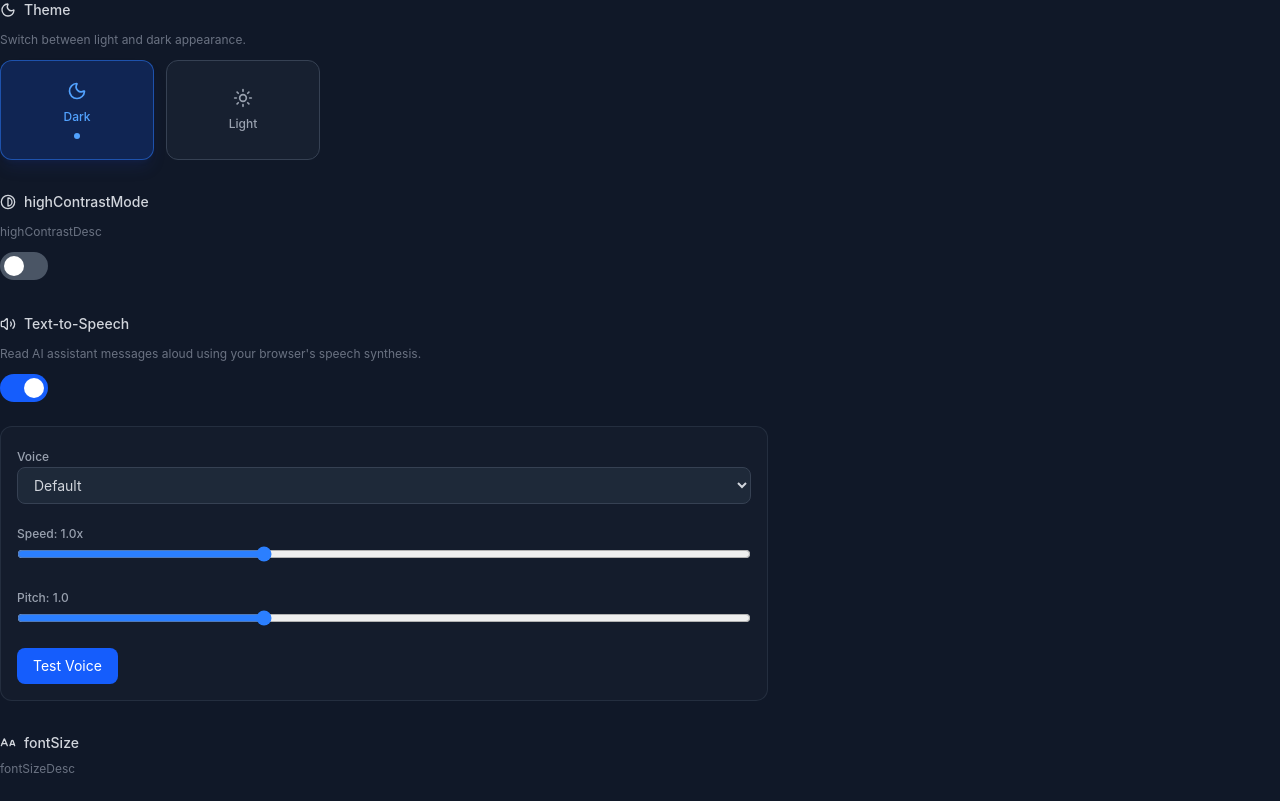
AccessibilitySettings › high-contrast toggle adds high-contrast class and persists
The image size is (1280, 801).
Expected: the text "highContrastMode" is shown, [0, 193, 149, 210]
The toggle is the high contrast button — find by parent label
Click the button without text below "highContrastDesc" at (24, 266), box [0, 252, 48, 280]
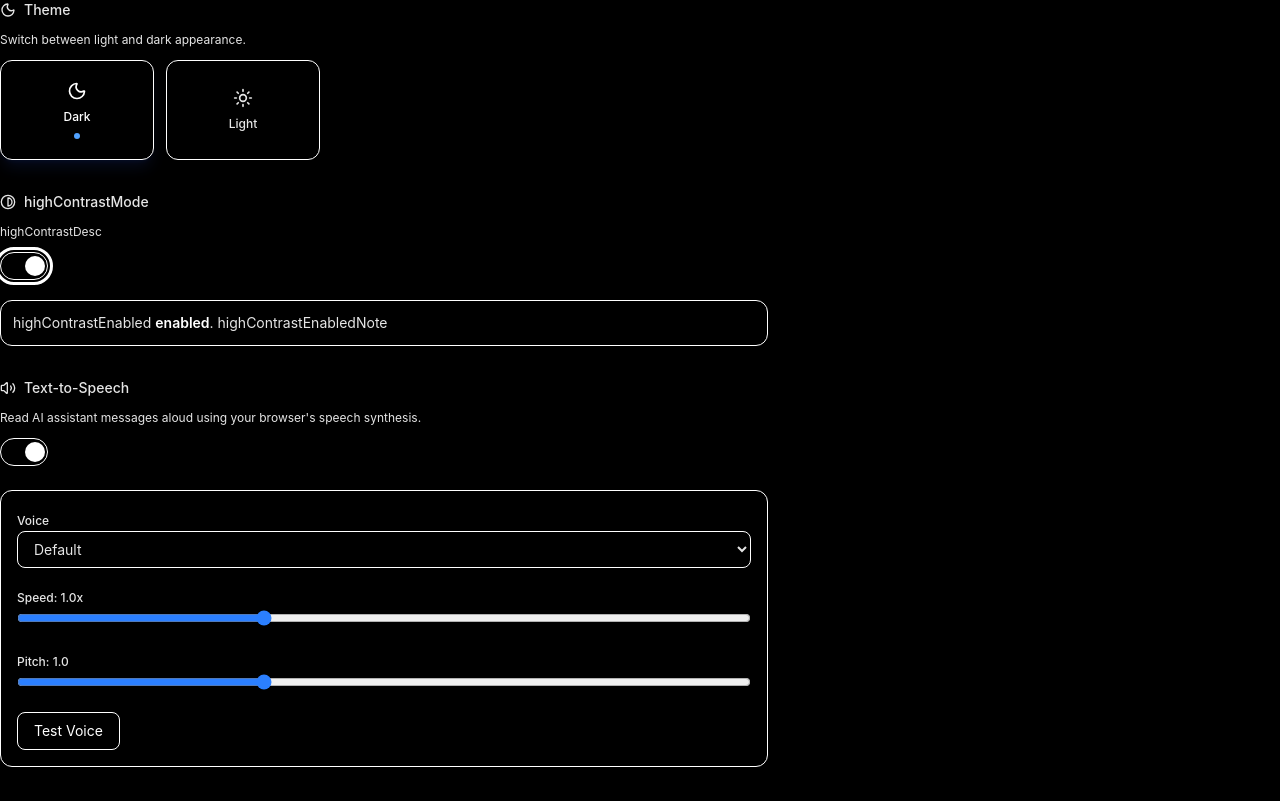
Expected: the text "enabled" is shown, [155, 314, 210, 331]
